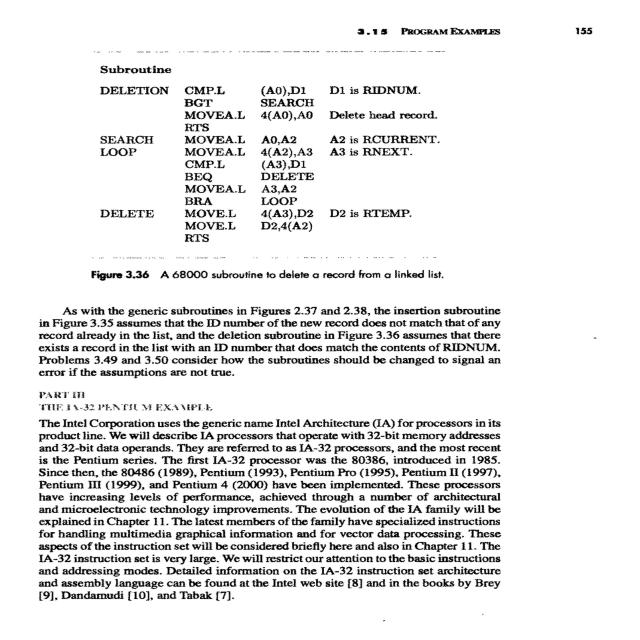diagram: (24, 59, 569, 285)
